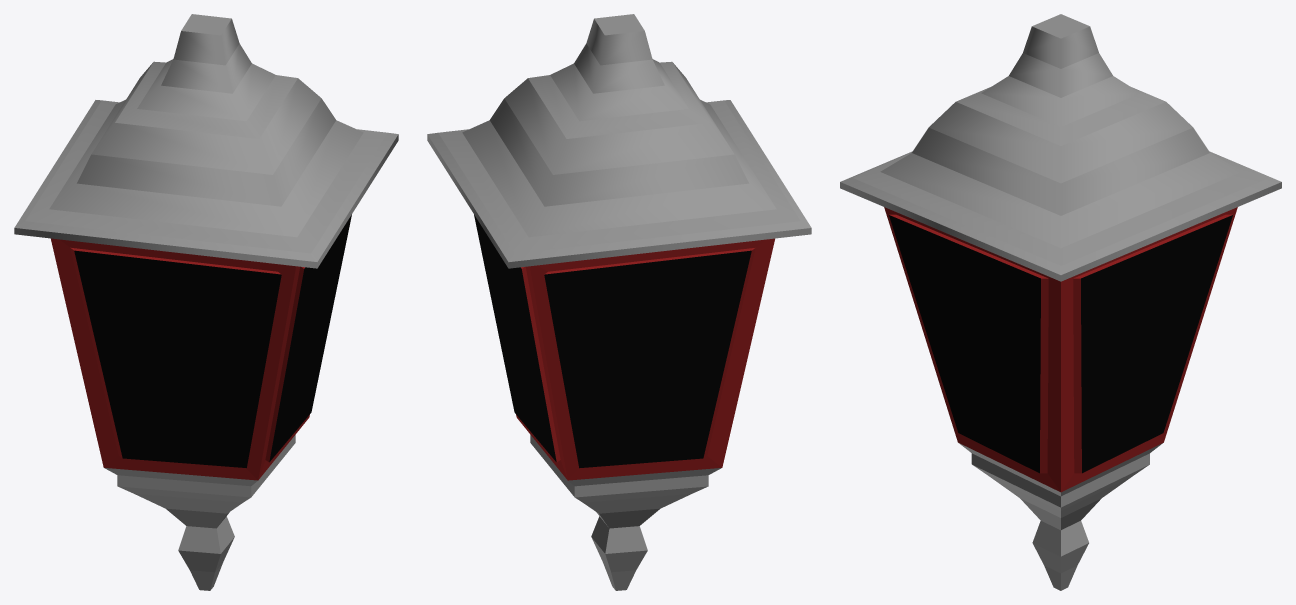
File: Lamp.FBX
3 renders of one model, left to right at view 1: azimuth 30°, elevation 25°; view 2: azimuth 150°, elevation 25°; view 3: azimuth 270°, elevation 25°, orthographic.
Visible parts, largest first — view 1: Lampz; view 2: Lampz; view 3: Lampz.
Boxes of the visible parts, x1=… form: Lampz: x1=14, y1=14, x2=398, y2=590; Lampz: x1=427, y1=14, x2=811, y2=590; Lampz: x1=840, y1=14, x2=1281, y2=590.
Bounding box in the file's own units: 39.86 × 55.86 × 39.86.
